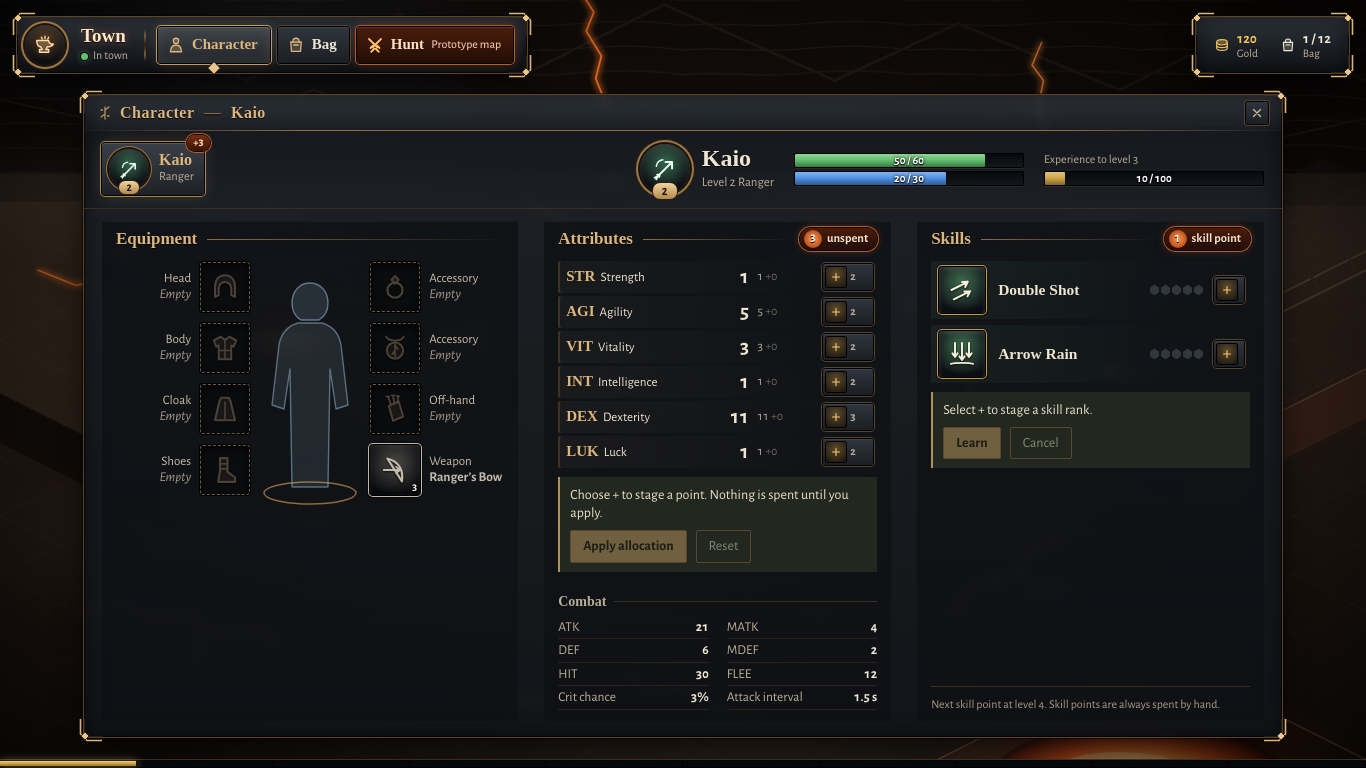
Test: B-16: staged allocation › a point the character cannot afford is refused, and says so
Click the button "3" at x=848, y=417, box [823,404,873,430]
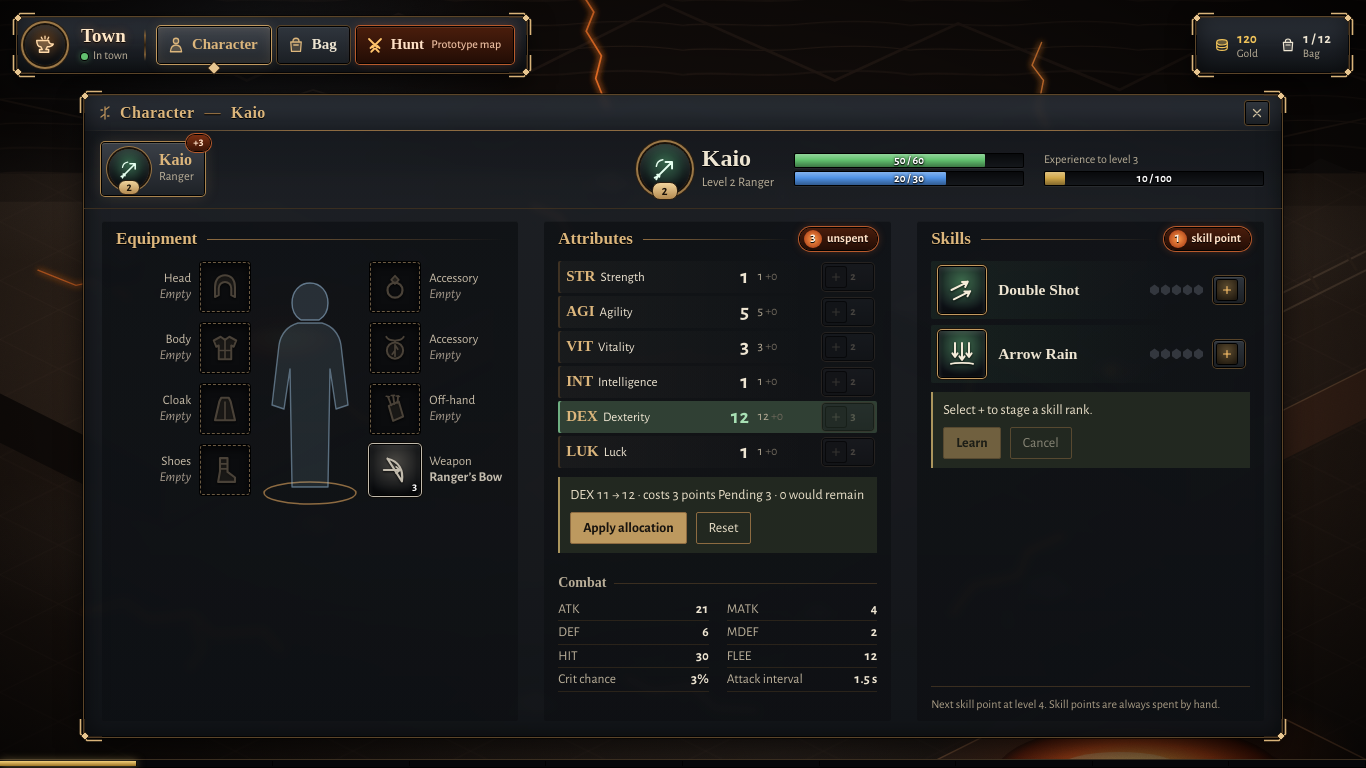
expect the button "3" is disabled: met, box [823,404,873,430]
